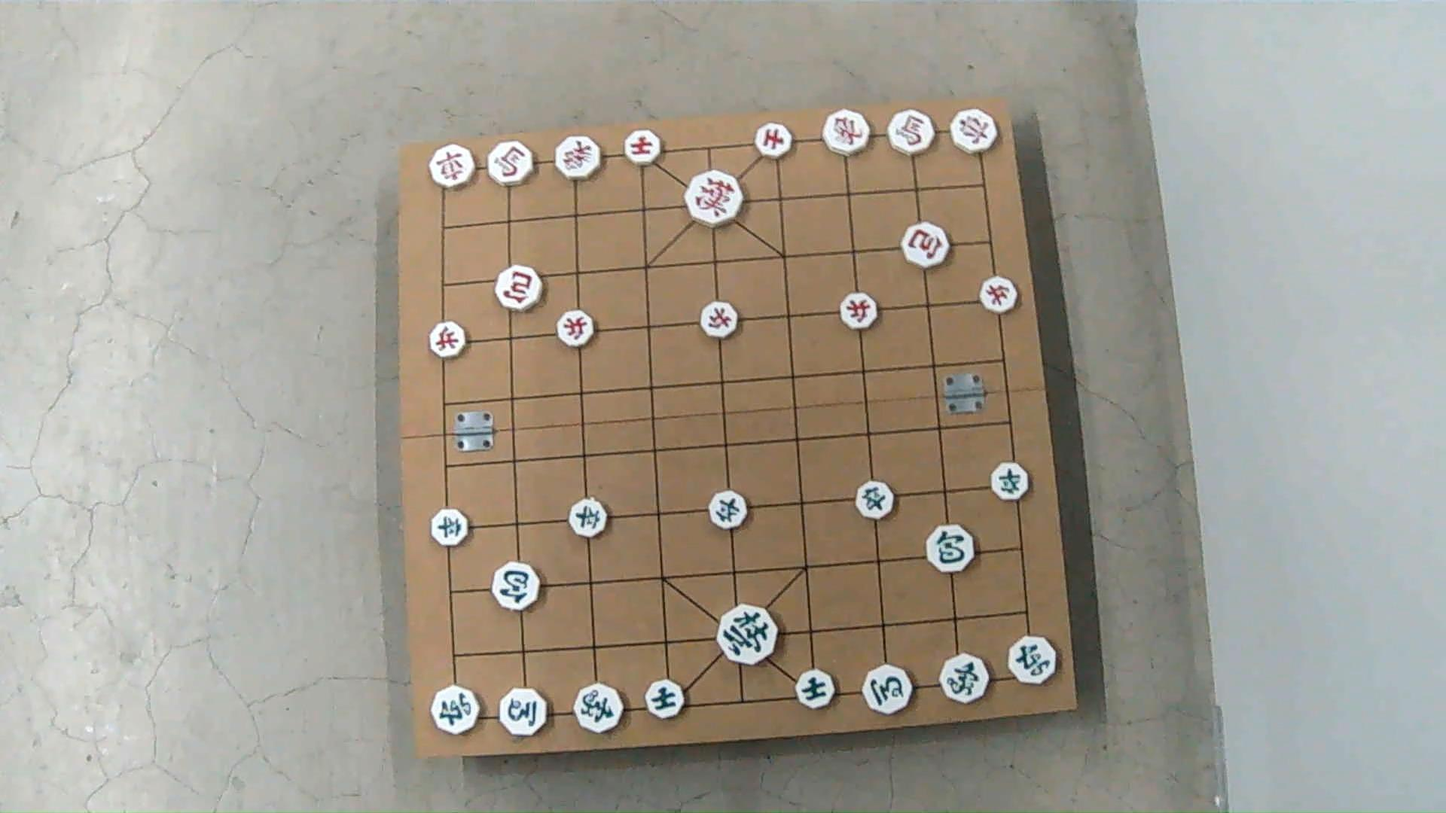cha_green: (1008, 636, 1057, 684), (429, 686, 477, 734)
cha_red: (950, 107, 997, 151), (432, 144, 477, 187)
jol_green: (710, 489, 749, 528), (856, 480, 895, 519), (571, 500, 609, 540), (990, 461, 1029, 499), (434, 510, 471, 547)
jol_red: (979, 276, 1017, 313), (700, 301, 739, 337), (432, 322, 469, 359), (843, 294, 880, 330), (554, 313, 590, 349)
ma_green: (862, 664, 912, 713), (498, 690, 547, 738)
ma_red: (891, 111, 937, 157), (486, 140, 532, 184)
po_green: (495, 563, 541, 612), (928, 525, 975, 572)
po_red: (904, 223, 952, 268), (499, 265, 546, 309)
sa_green: (796, 673, 836, 713), (645, 682, 684, 721)
sa_red: (755, 123, 792, 159), (624, 129, 660, 164)
sang_green: (576, 684, 625, 735), (938, 654, 987, 704)
sang_red: (825, 109, 872, 155), (556, 136, 602, 180)
wang_green: (717, 604, 776, 664)
wang_red: (687, 171, 743, 226)
